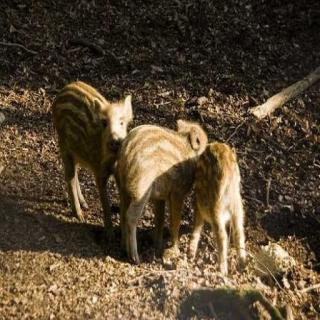Pig: (31, 55, 123, 224), (120, 99, 198, 248), (189, 136, 265, 263)
